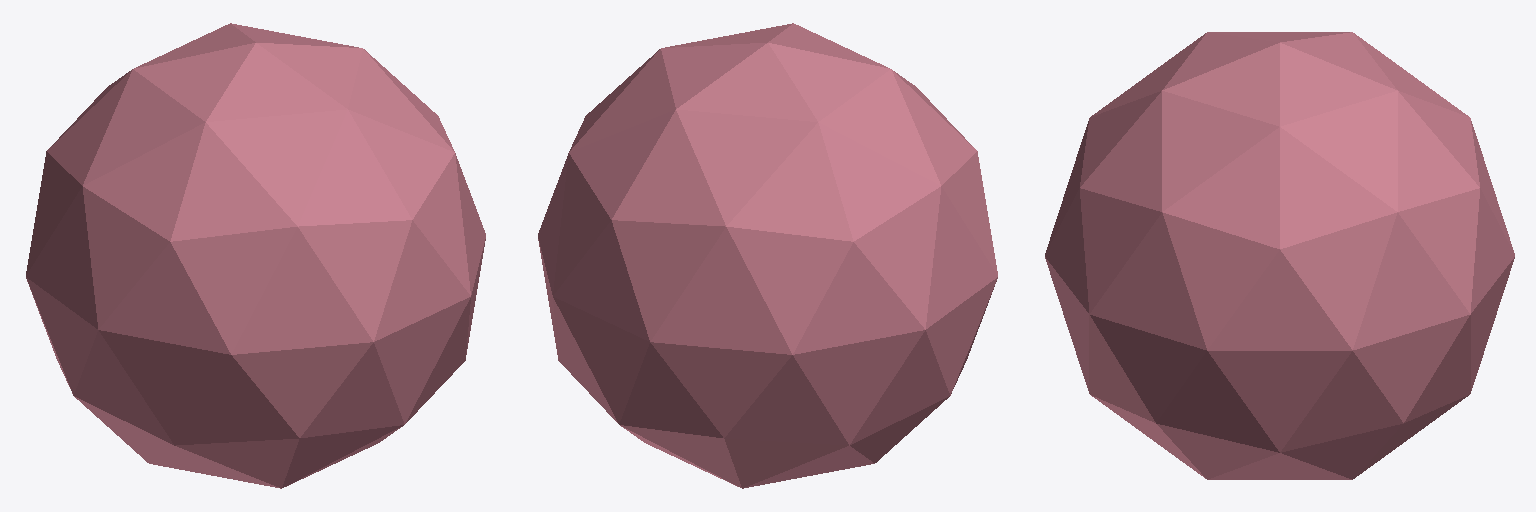
File: DefaultLevels.obj
3 views of the same model, side by side, from view 1: azimuth 30°, elevation 25°; view 2: azimuth 150°, elevation 25°; view 3: azimuth 270°, elevation 25° (orthographic).
Visible parts, largest first — view 1: Icosphere; view 2: Icosphere; view 3: Icosphere.
Part boxes in pixels (bbox=[...]): Icosphere: bbox=[26, 23, 485, 488]; Icosphere: bbox=[538, 23, 997, 488]; Icosphere: bbox=[1045, 32, 1514, 479].
Bounding box in the file's own units: 1.88 × 1.98 × 1.98.